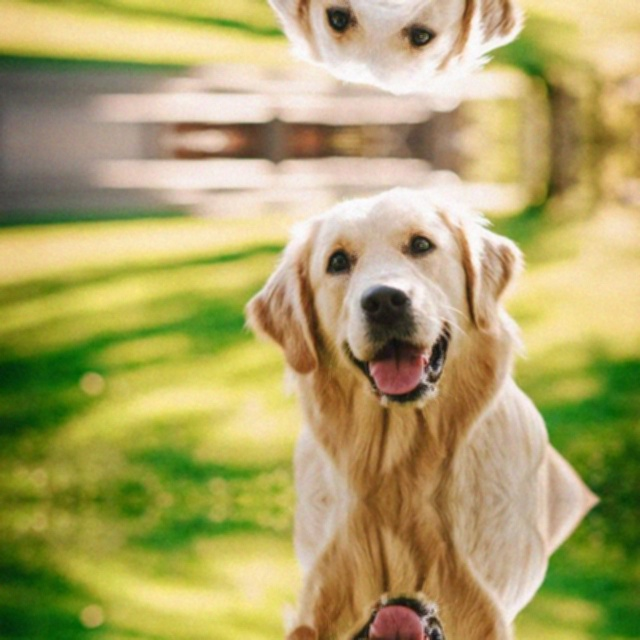dog: (224, 172, 563, 499), (225, 500, 564, 640), (225, 0, 564, 107)
